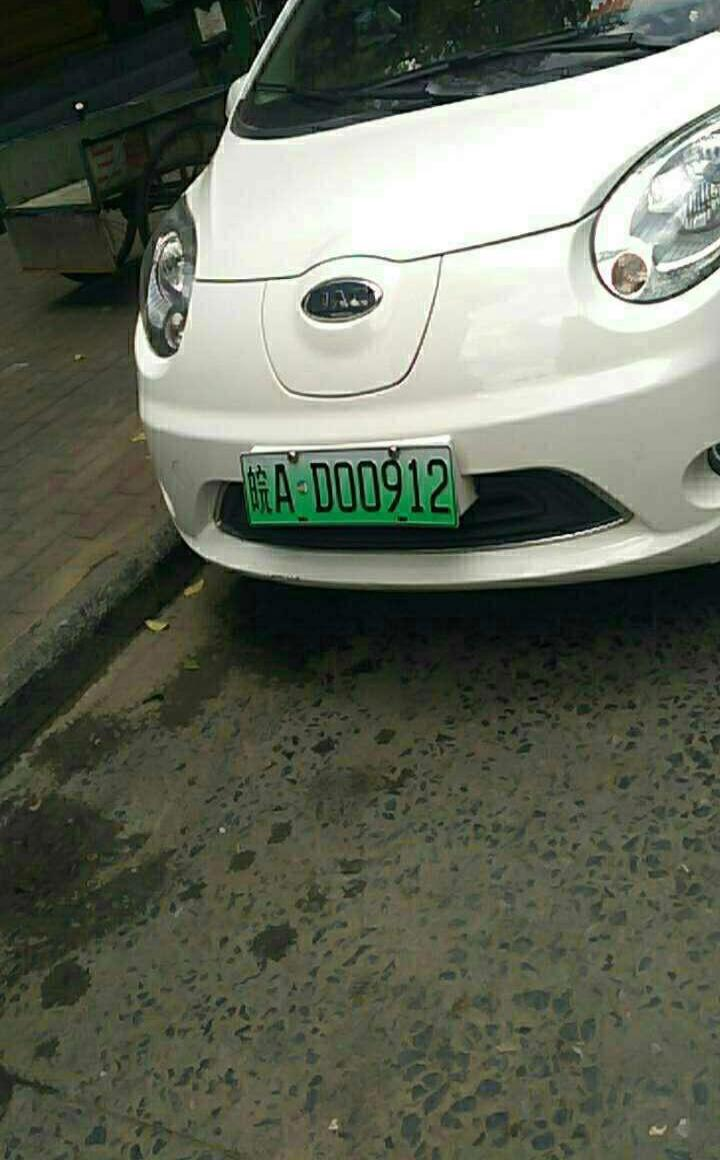car_id: (242, 448, 455, 523)
